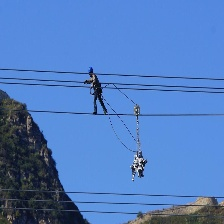helmet: (87, 66, 94, 77)
person: (85, 65, 107, 117)
